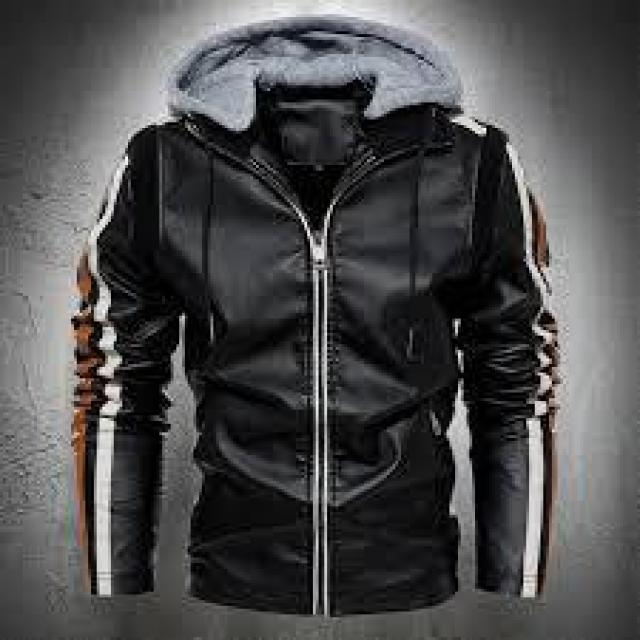jacket: (71, 11, 569, 606)
